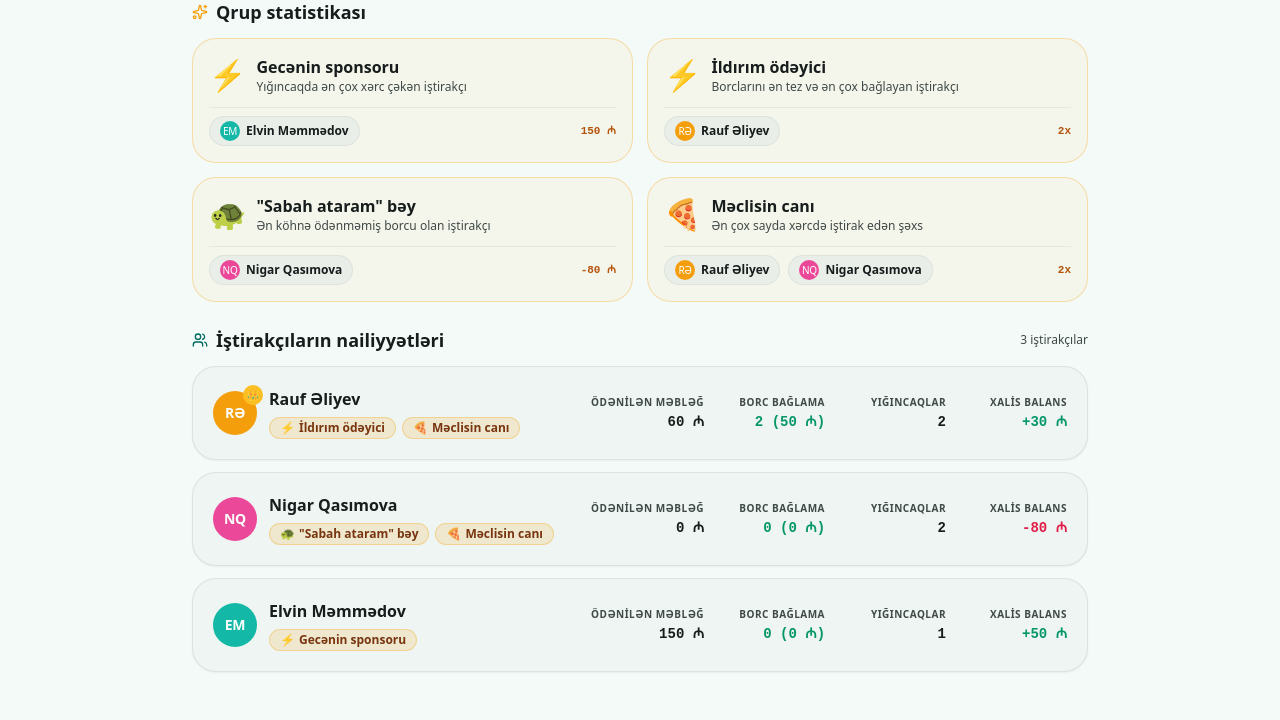
Scenario: Hall of Fame Tab ("Şərəf Lövhəsi") › opens and closes badge description modal when clicking a badge chip
(page scrolled)
// Click the badge button
Click the button "⚡ Gecənin sponsoru" at (343, 640), box [269,629,417,651]
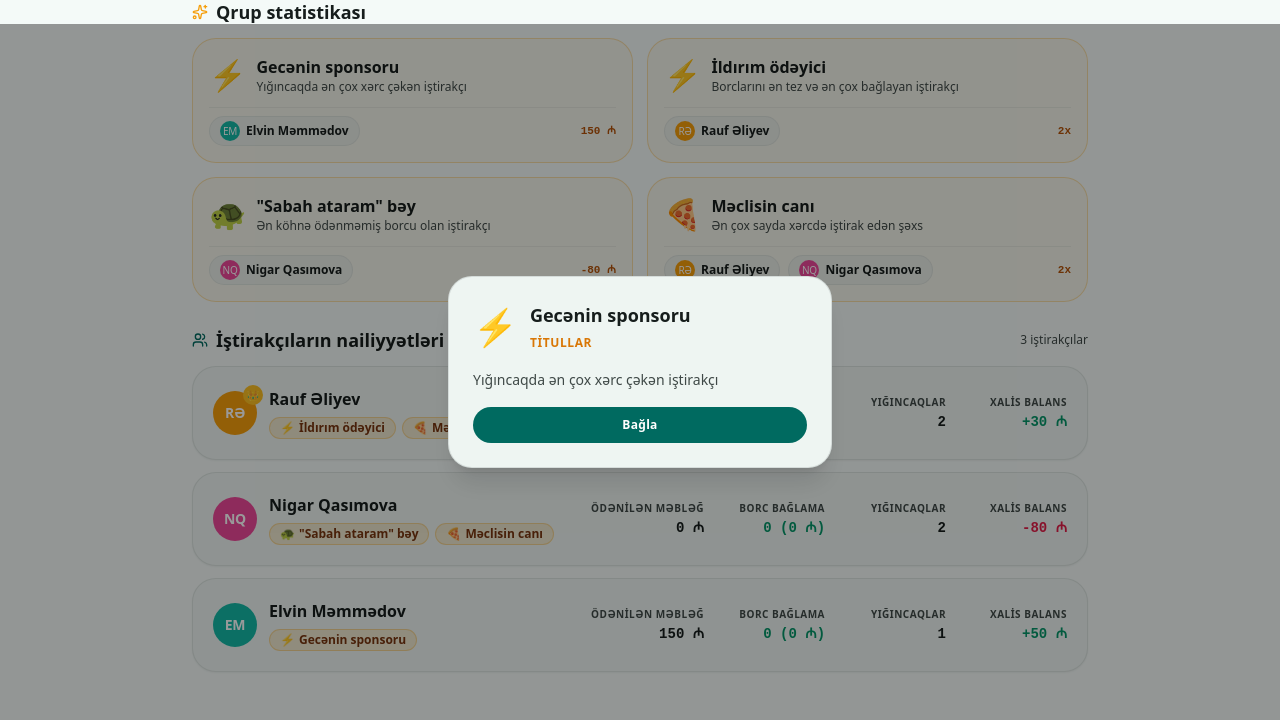
Result: the dialog is shown
Result: the text "Yığıncaqda ən çox xərc çəkən iştirakçı" is shown at [473,370,718,389]
// Close button inside dialog
Click the button "Bağla" at (640, 425), box [473,407,807,443]
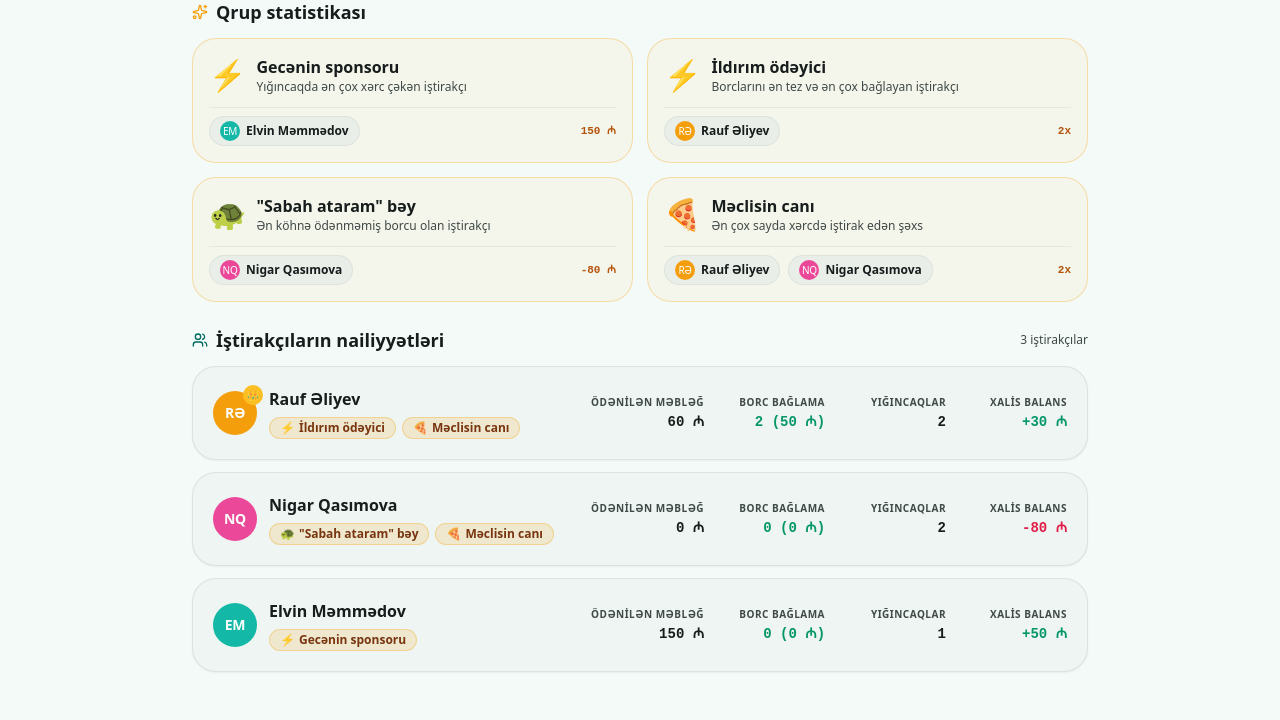
Result: the dialog is gone
